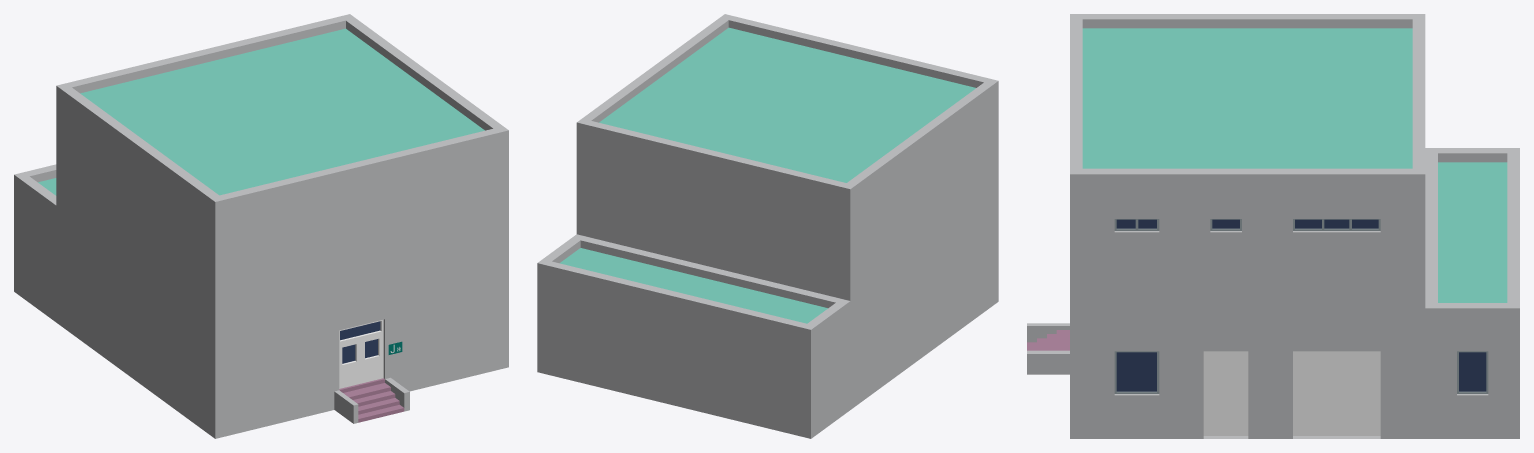
File: Building_J1.fbx
3 renders of one model, left to right at view 1: azimuth 30°, elevation 25°; view 2: azimuth 150°, elevation 25°; view 3: azimuth 270°, elevation 25°, orthographic. The views are drawn at different scales.
Parts seen in each view (by area): view 1: Building_J1; view 2: Building_J1; view 3: Building_J1.
Boxes of the visible parts, <box> form: Building_J1: <box>14,14,508,438</box>; Building_J1: <box>537,14,998,438</box>; Building_J1: <box>1027,14,1519,438</box>.
Size of the model in its own units: 11.48 by 8.85 by 14.92.
